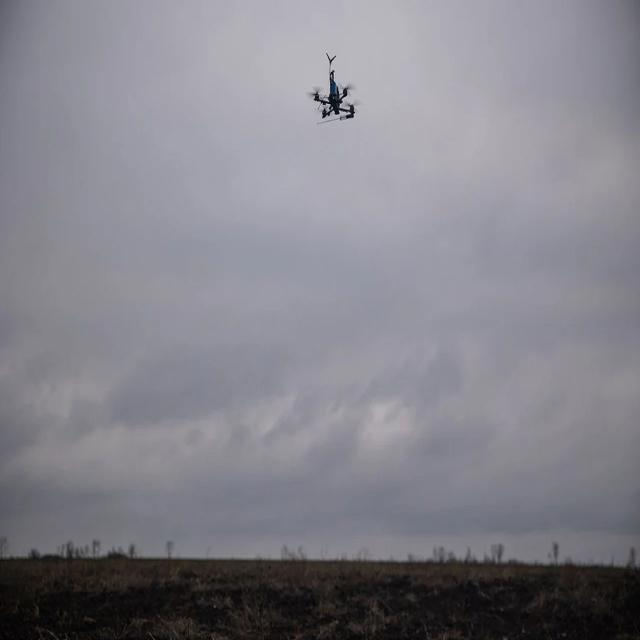drone: (305, 53, 362, 127)
